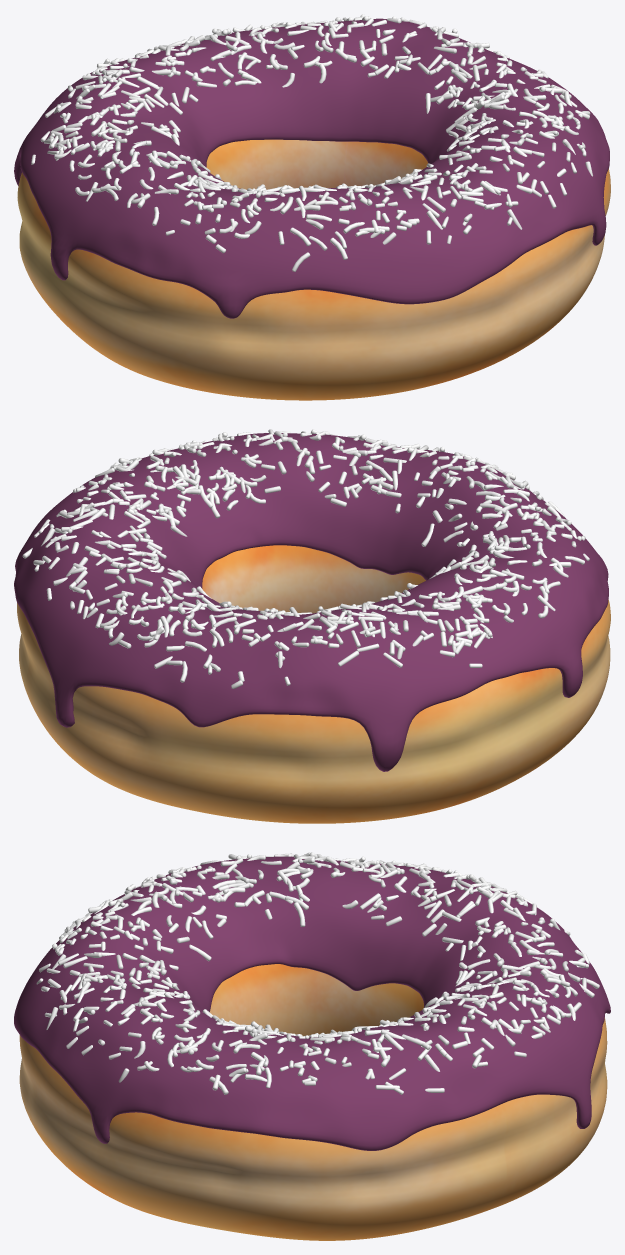
Rendered from donut2.glb.
3 renders of one model, top to bottom at view 1: azimuth 30°, elevation 25°; view 2: azimuth 150°, elevation 25°; view 3: azimuth 270°, elevation 25°, orthographic.
Visible parts, largest first — view 1: Topping, Donut; view 2: Topping, Donut; view 3: Topping, Donut.
Boxes of the visible parts, bbox=[...] form: Topping: bbox=[14, 18, 609, 318]; Donut: bbox=[17, 139, 610, 400]; Topping: bbox=[14, 433, 608, 771]; Donut: bbox=[17, 545, 610, 823]; Topping: bbox=[14, 856, 610, 1150]; Donut: bbox=[19, 964, 607, 1240].
Size of the model in its own units: 0.1496 by 0.0563 by 0.1458.
Materials: 3 (1 with a texture image).
